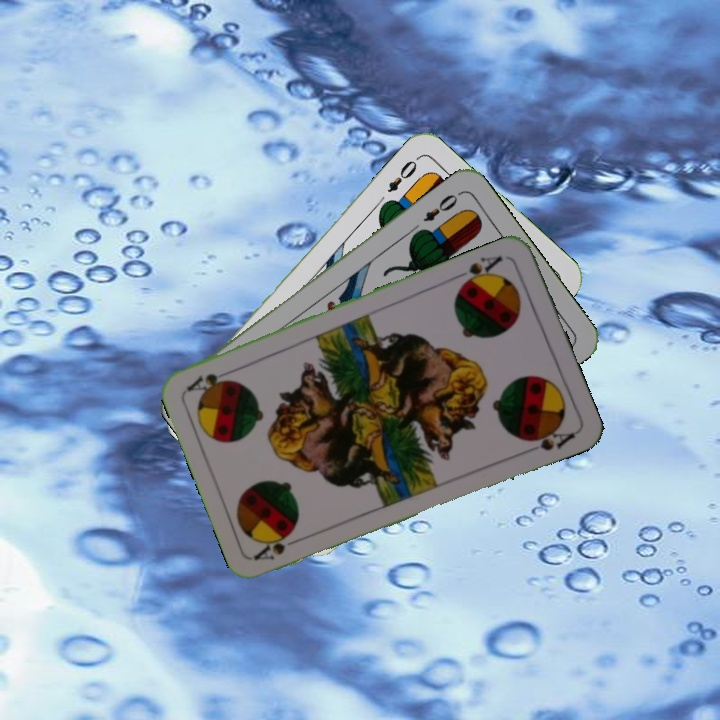EO: (383, 152, 422, 196), (419, 190, 461, 225)
SA: (452, 251, 505, 291), (251, 528, 307, 563)
